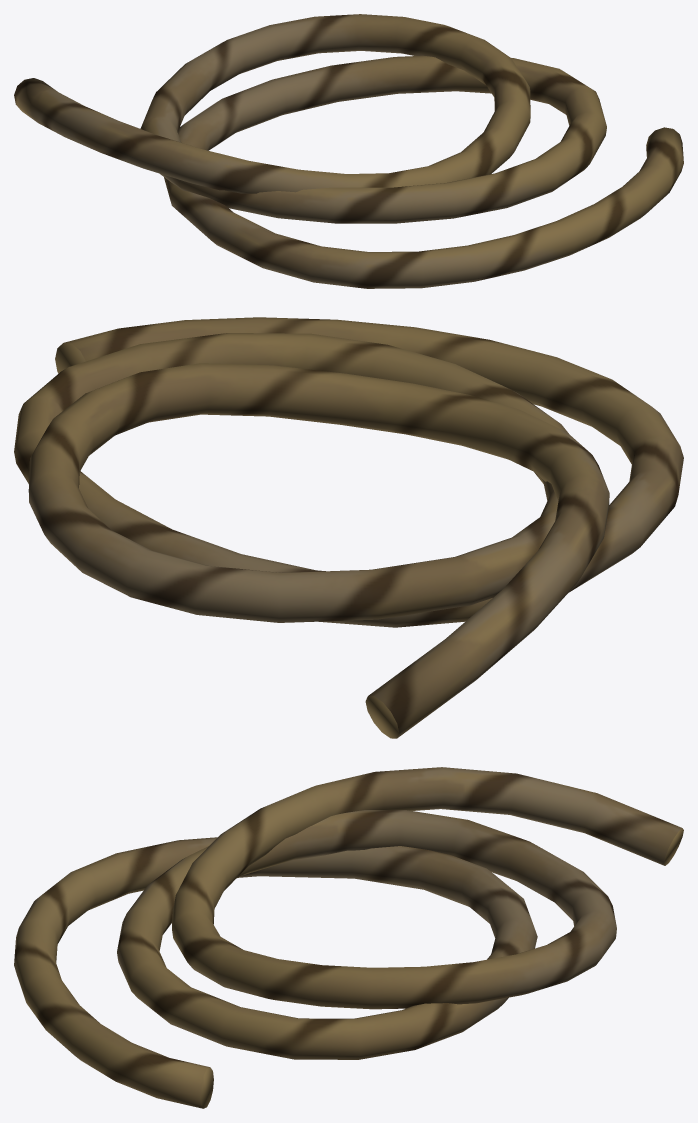
The model's file is rope_2.glb.
3 renders of one model, top to bottom at view 1: azimuth 30°, elevation 25°; view 2: azimuth 150°, elevation 25°; view 3: azimuth 270°, elevation 25°, orthographic. The views are drawn at different scales.
Visible parts, largest first — view 1: Rope_2; view 2: Rope_2; view 3: Rope_2.
Part boxes in pixels (left/top/right/bottom): Rope_2: left=14, top=14, right=683, bottom=288; Rope_2: left=14, top=317, right=683, bottom=738; Rope_2: left=14, top=767, right=683, bottom=1108.
Bounding box in the file's own units: 0.8078 × 0.1236 × 0.845.
Materials: 1 (1 with a texture image).
